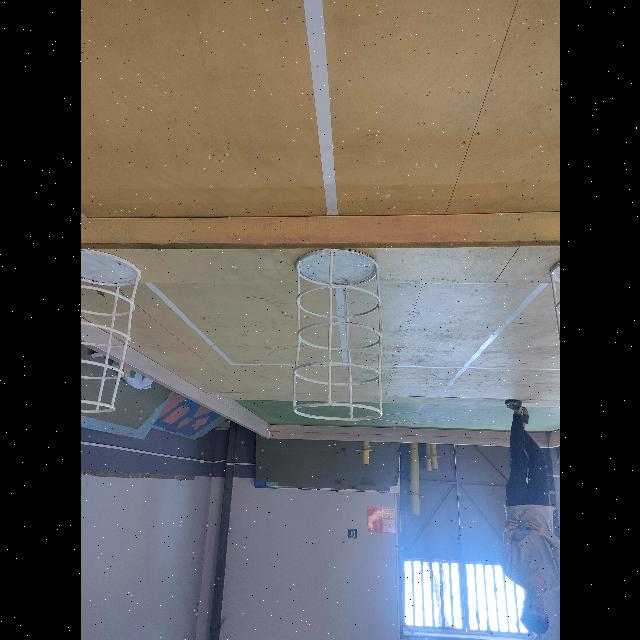S: (294, 250, 384, 422), (80, 247, 142, 416), (548, 261, 560, 371)
